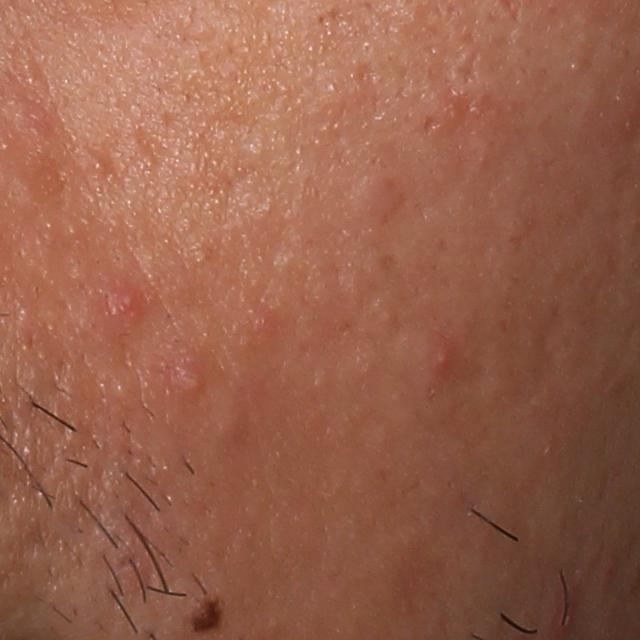atrophic_scar: (453, 46, 483, 84), (421, 113, 444, 138)
papule: (341, 169, 408, 224), (100, 279, 145, 329), (175, 367, 209, 398), (430, 343, 456, 373)
